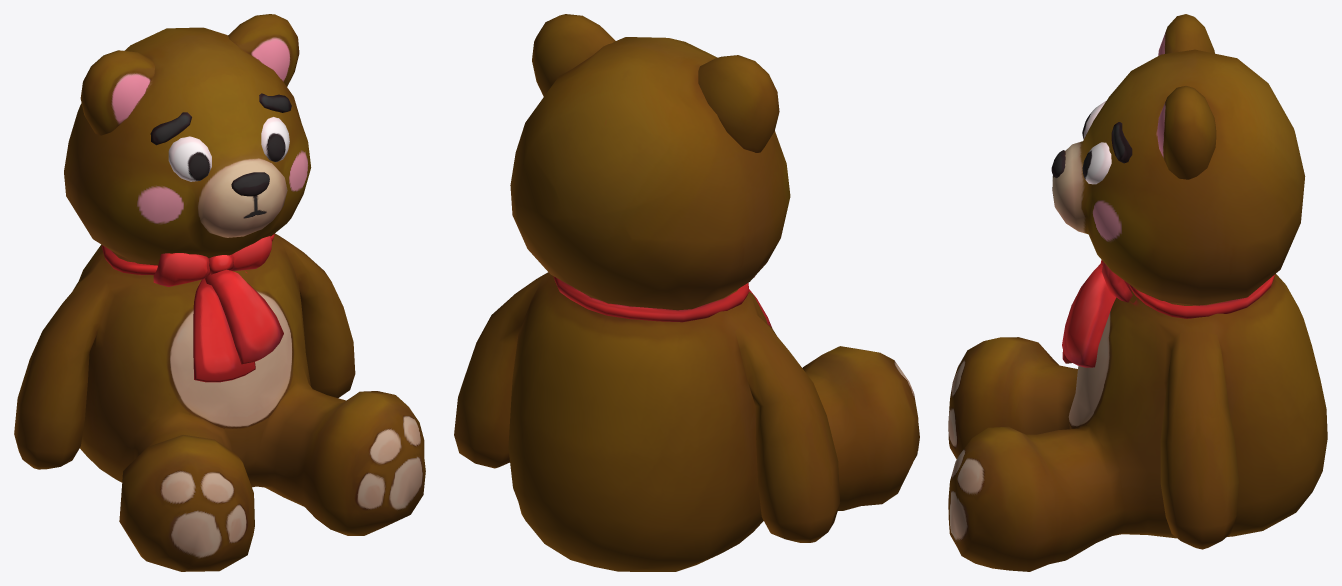
Rendered from Xiong.FBX.
The picture shows the model from 3 angles, left to right: view 1: azimuth 30°, elevation 25°; view 2: azimuth 150°, elevation 25°; view 3: azimuth 270°, elevation 25°; orthographic projection. The views are drawn at different scales.
Visible parts, largest first — view 1: Xiong; view 2: Xiong; view 3: Xiong.
Part boxes in pixels (bbox=[...]): Xiong: bbox=[14, 14, 425, 571]; Xiong: bbox=[454, 14, 919, 571]; Xiong: bbox=[948, 14, 1327, 571].
Size of the model in its own units: 86.92 by 113 by 82.98.
1 material, 1 textured.
